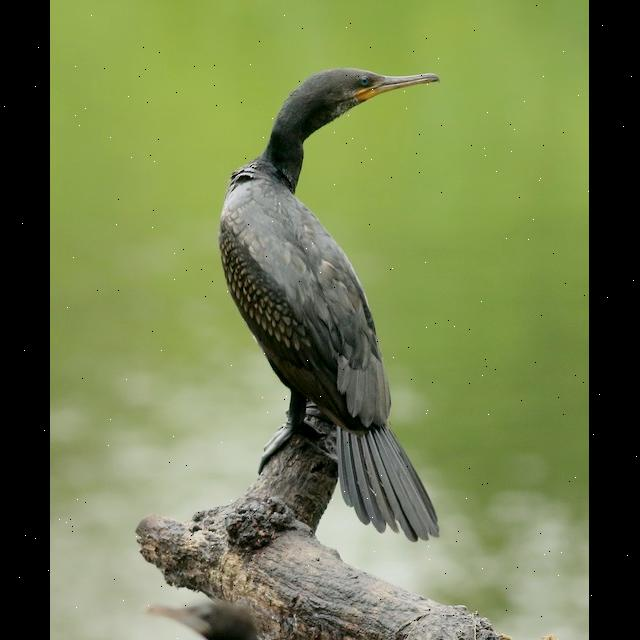cormorant: (214, 55, 450, 523)
